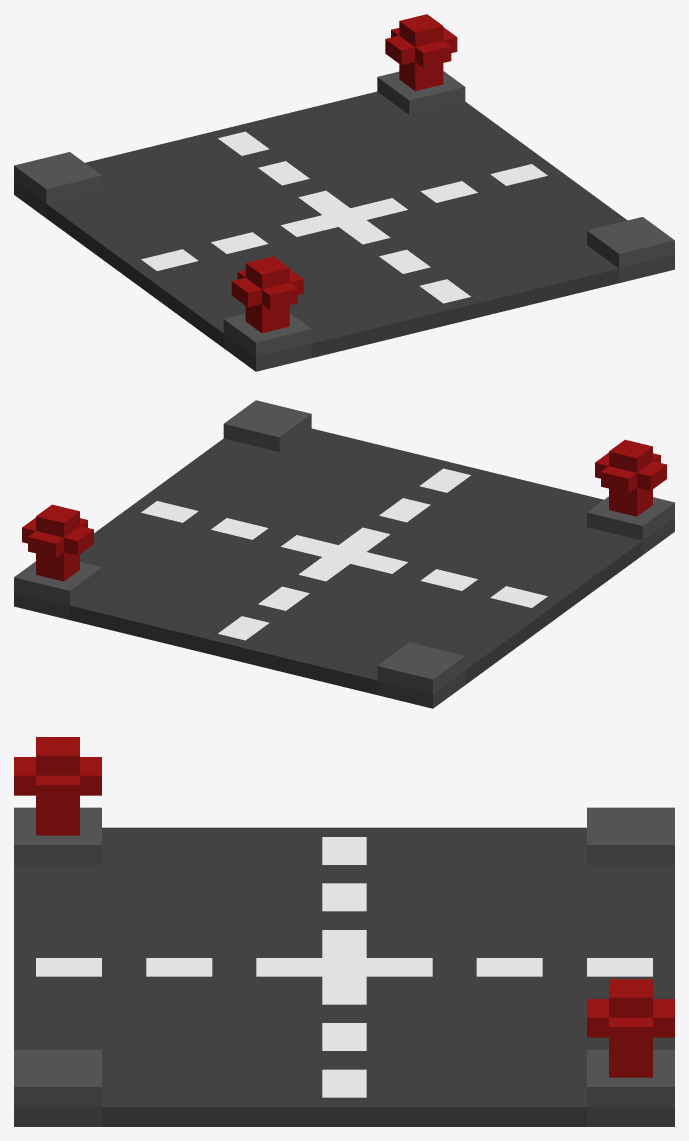
Rendered from xcrossroadHydrants.obj.
3 renders of one model, top to bottom at view 1: azimuth 30°, elevation 25°; view 2: azimuth 150°, elevation 25°; view 3: azimuth 270°, elevation 25°, orthographic. The views are drawn at different scales.
Bounding box in the file's own units: 30 × 6 × 30.
Materials: 1 (1 with a texture image).
